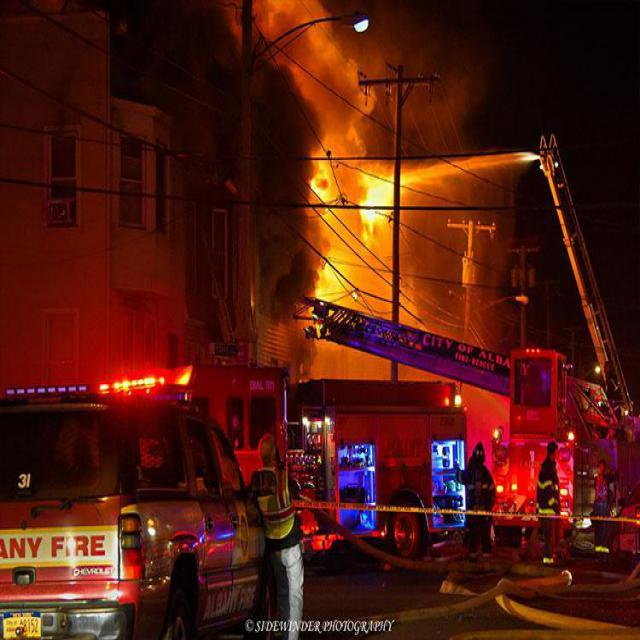Fire: (276, 53, 437, 350)
